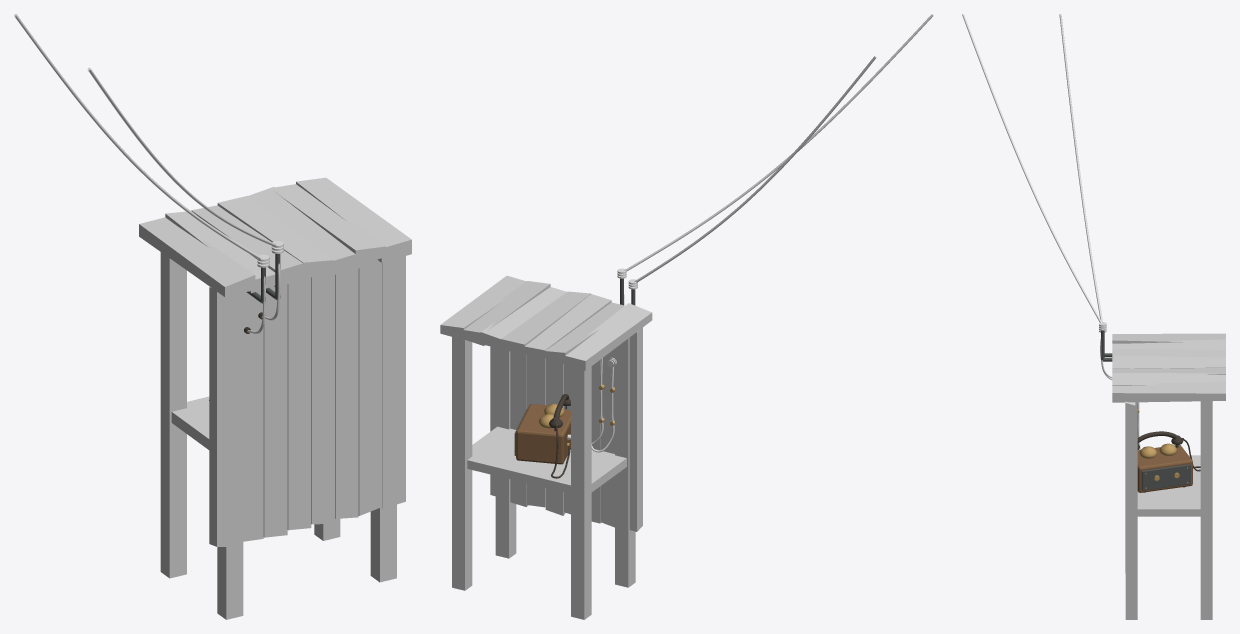
Rendered from FieldTelephoneStation.fbx.
3 views of the same model, side by side, from view 1: azimuth 30°, elevation 25°; view 2: azimuth 150°, elevation 25°; view 3: azimuth 270°, elevation 25° (orthographic). The views are drawn at different scales.
Visible parts, largest first — view 1: FieldStationVisual; view 2: FieldStationVisual; view 3: FieldStationVisual.
Part boxes in pixels (left/top/right/bottom): FieldStationVisual: left=14, top=14, right=411, bottom=619; FieldStationVisual: left=440, top=14, right=933, bottom=619; FieldStationVisual: left=962, top=14, right=1225, bottom=619.
Bounding box in the file's own units: 2.7 × 4.12 × 2.11.
